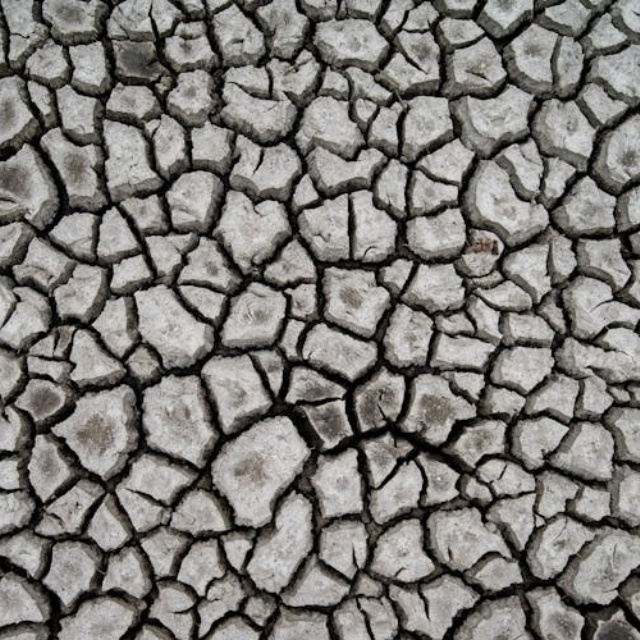网状裂隙: (0, 0, 640, 445)
